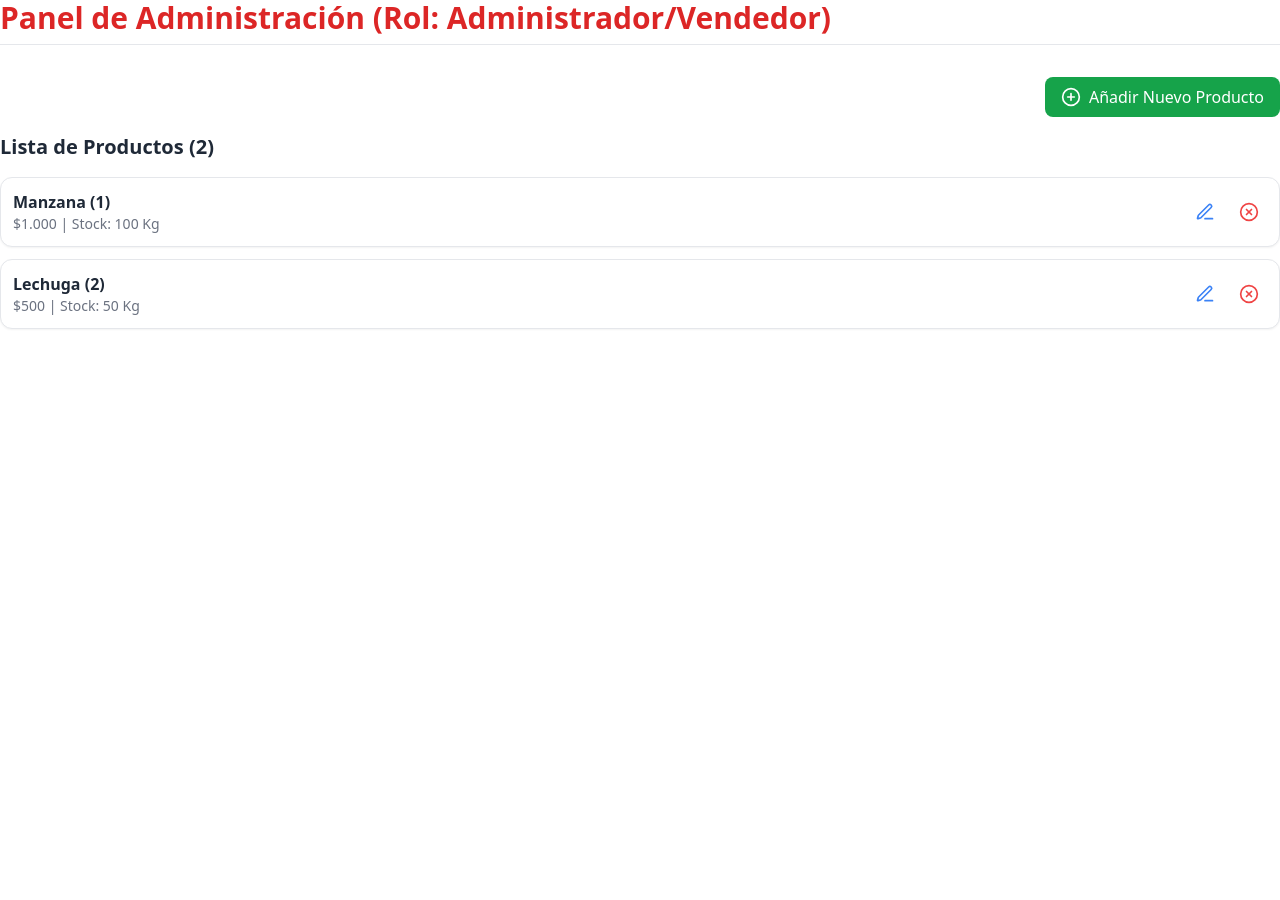
Test: Pruebas para el componente Admin › debería abrir el formulario con datos, editar y guardar
Expected: the text "Manzana (1)" is shown, top-left (13, 191), bottom-right (110, 213)
Click the button named "Editar Manzana". click: (1205, 212)
box: top-left (1187, 194), bottom-right (1223, 230)
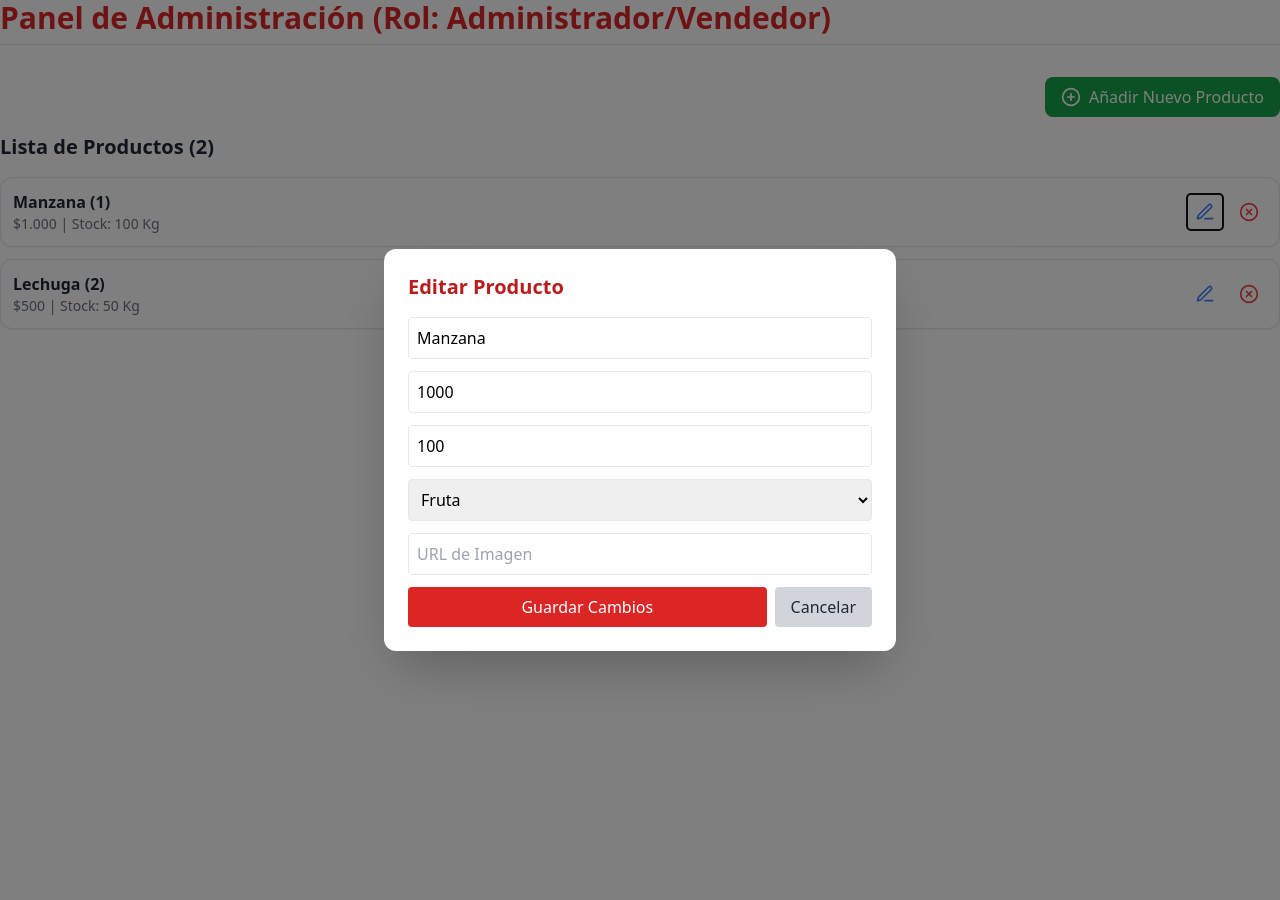
Expected: the heading "Editar Producto" is shown, top-left (408, 273), bottom-right (564, 300)
Expected: the field with placeholder "Nombre" holds "Manzana", top-left (408, 317), bottom-right (872, 359)
Expected: the 1st number field with placeholder "Precio (CLP)" holds "1000"
El usuario cambia el precio
Replace the text in the 1st number field with placeholder "Precio (CLP)" with "1500". click: (640, 392)
box: top-left (408, 371), bottom-right (872, 413)
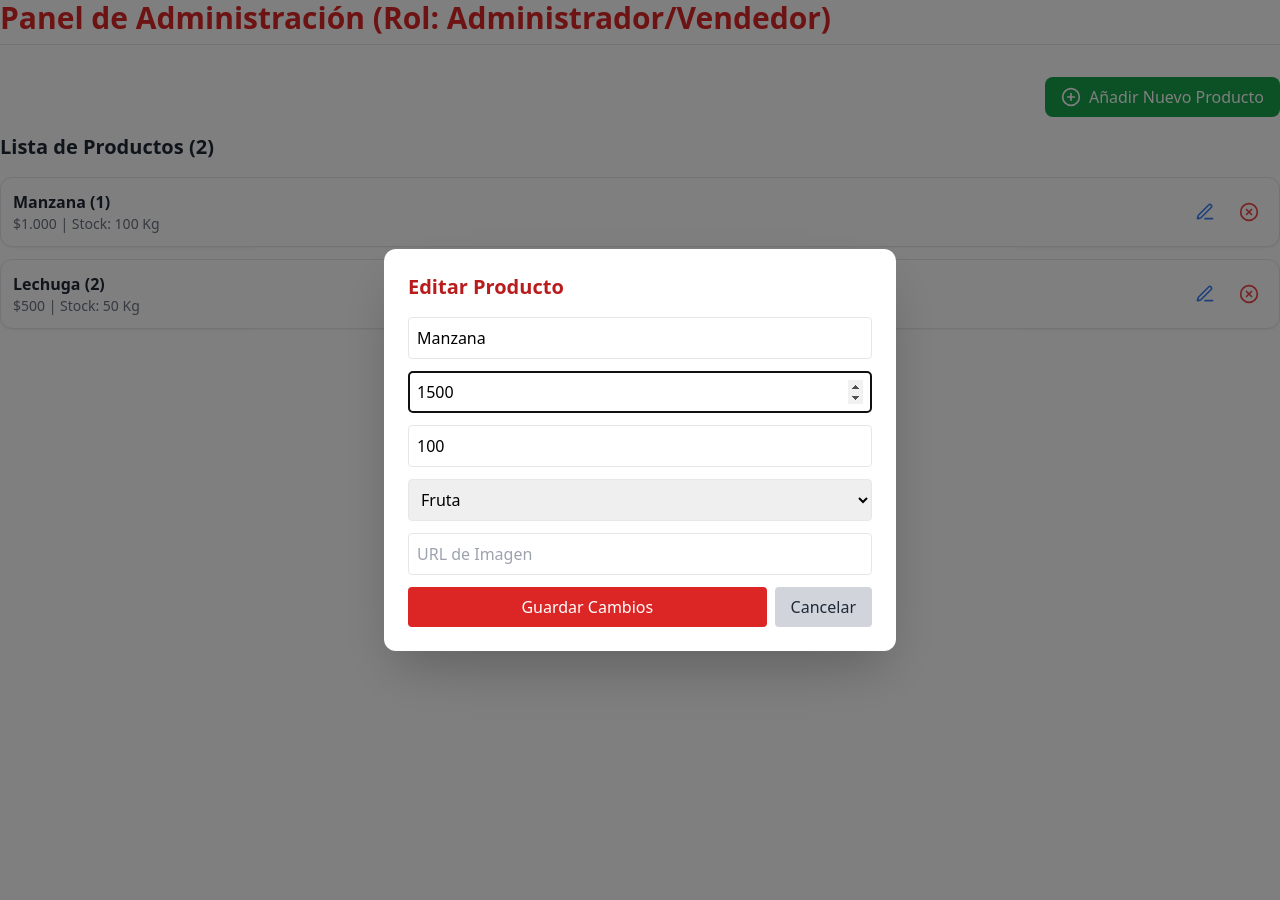
El usuario guarda
Click the button "Guardar Cambios". click: (587, 607)
box: top-left (408, 587), bottom-right (767, 627)
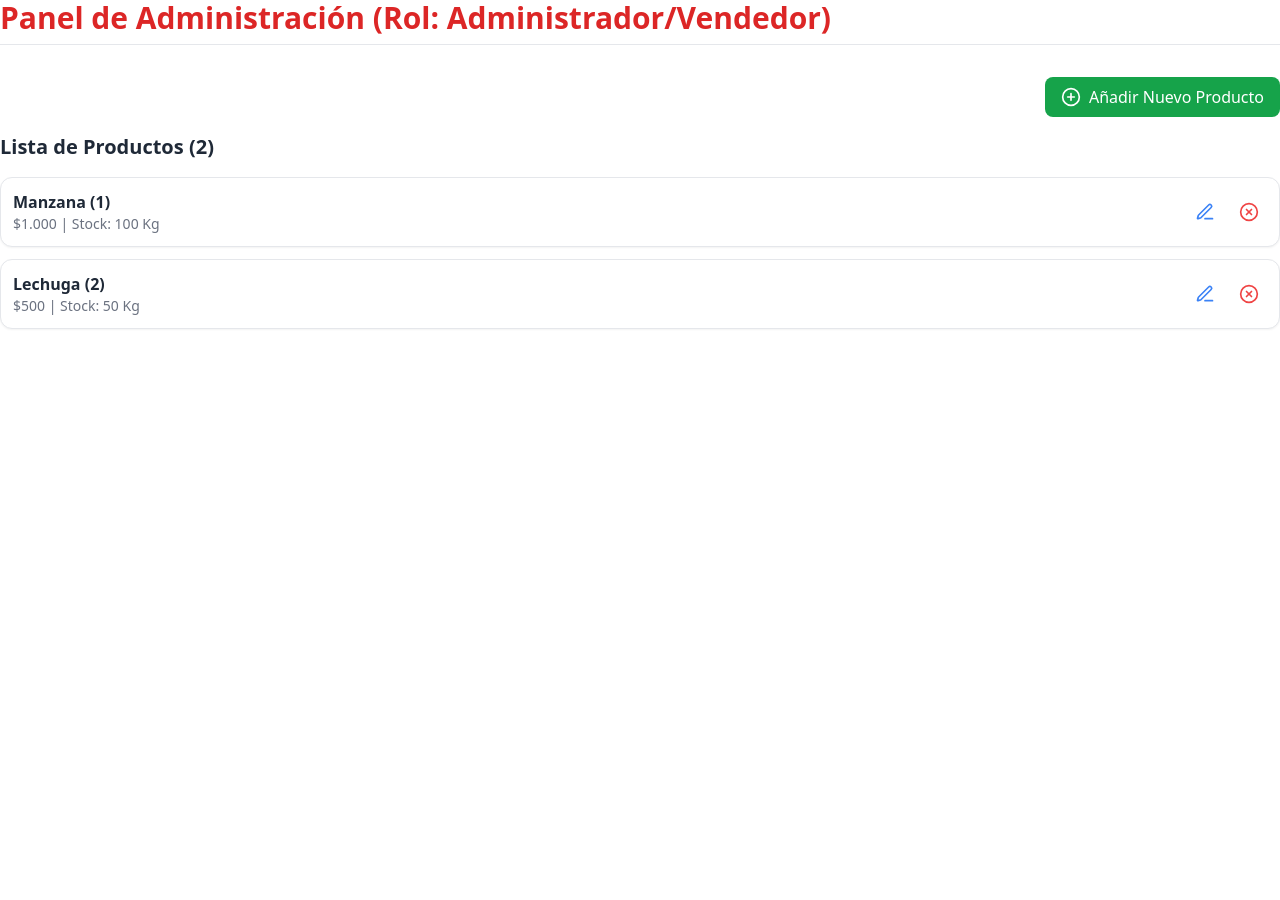
Expected: the heading "Editar Producto" is gone
